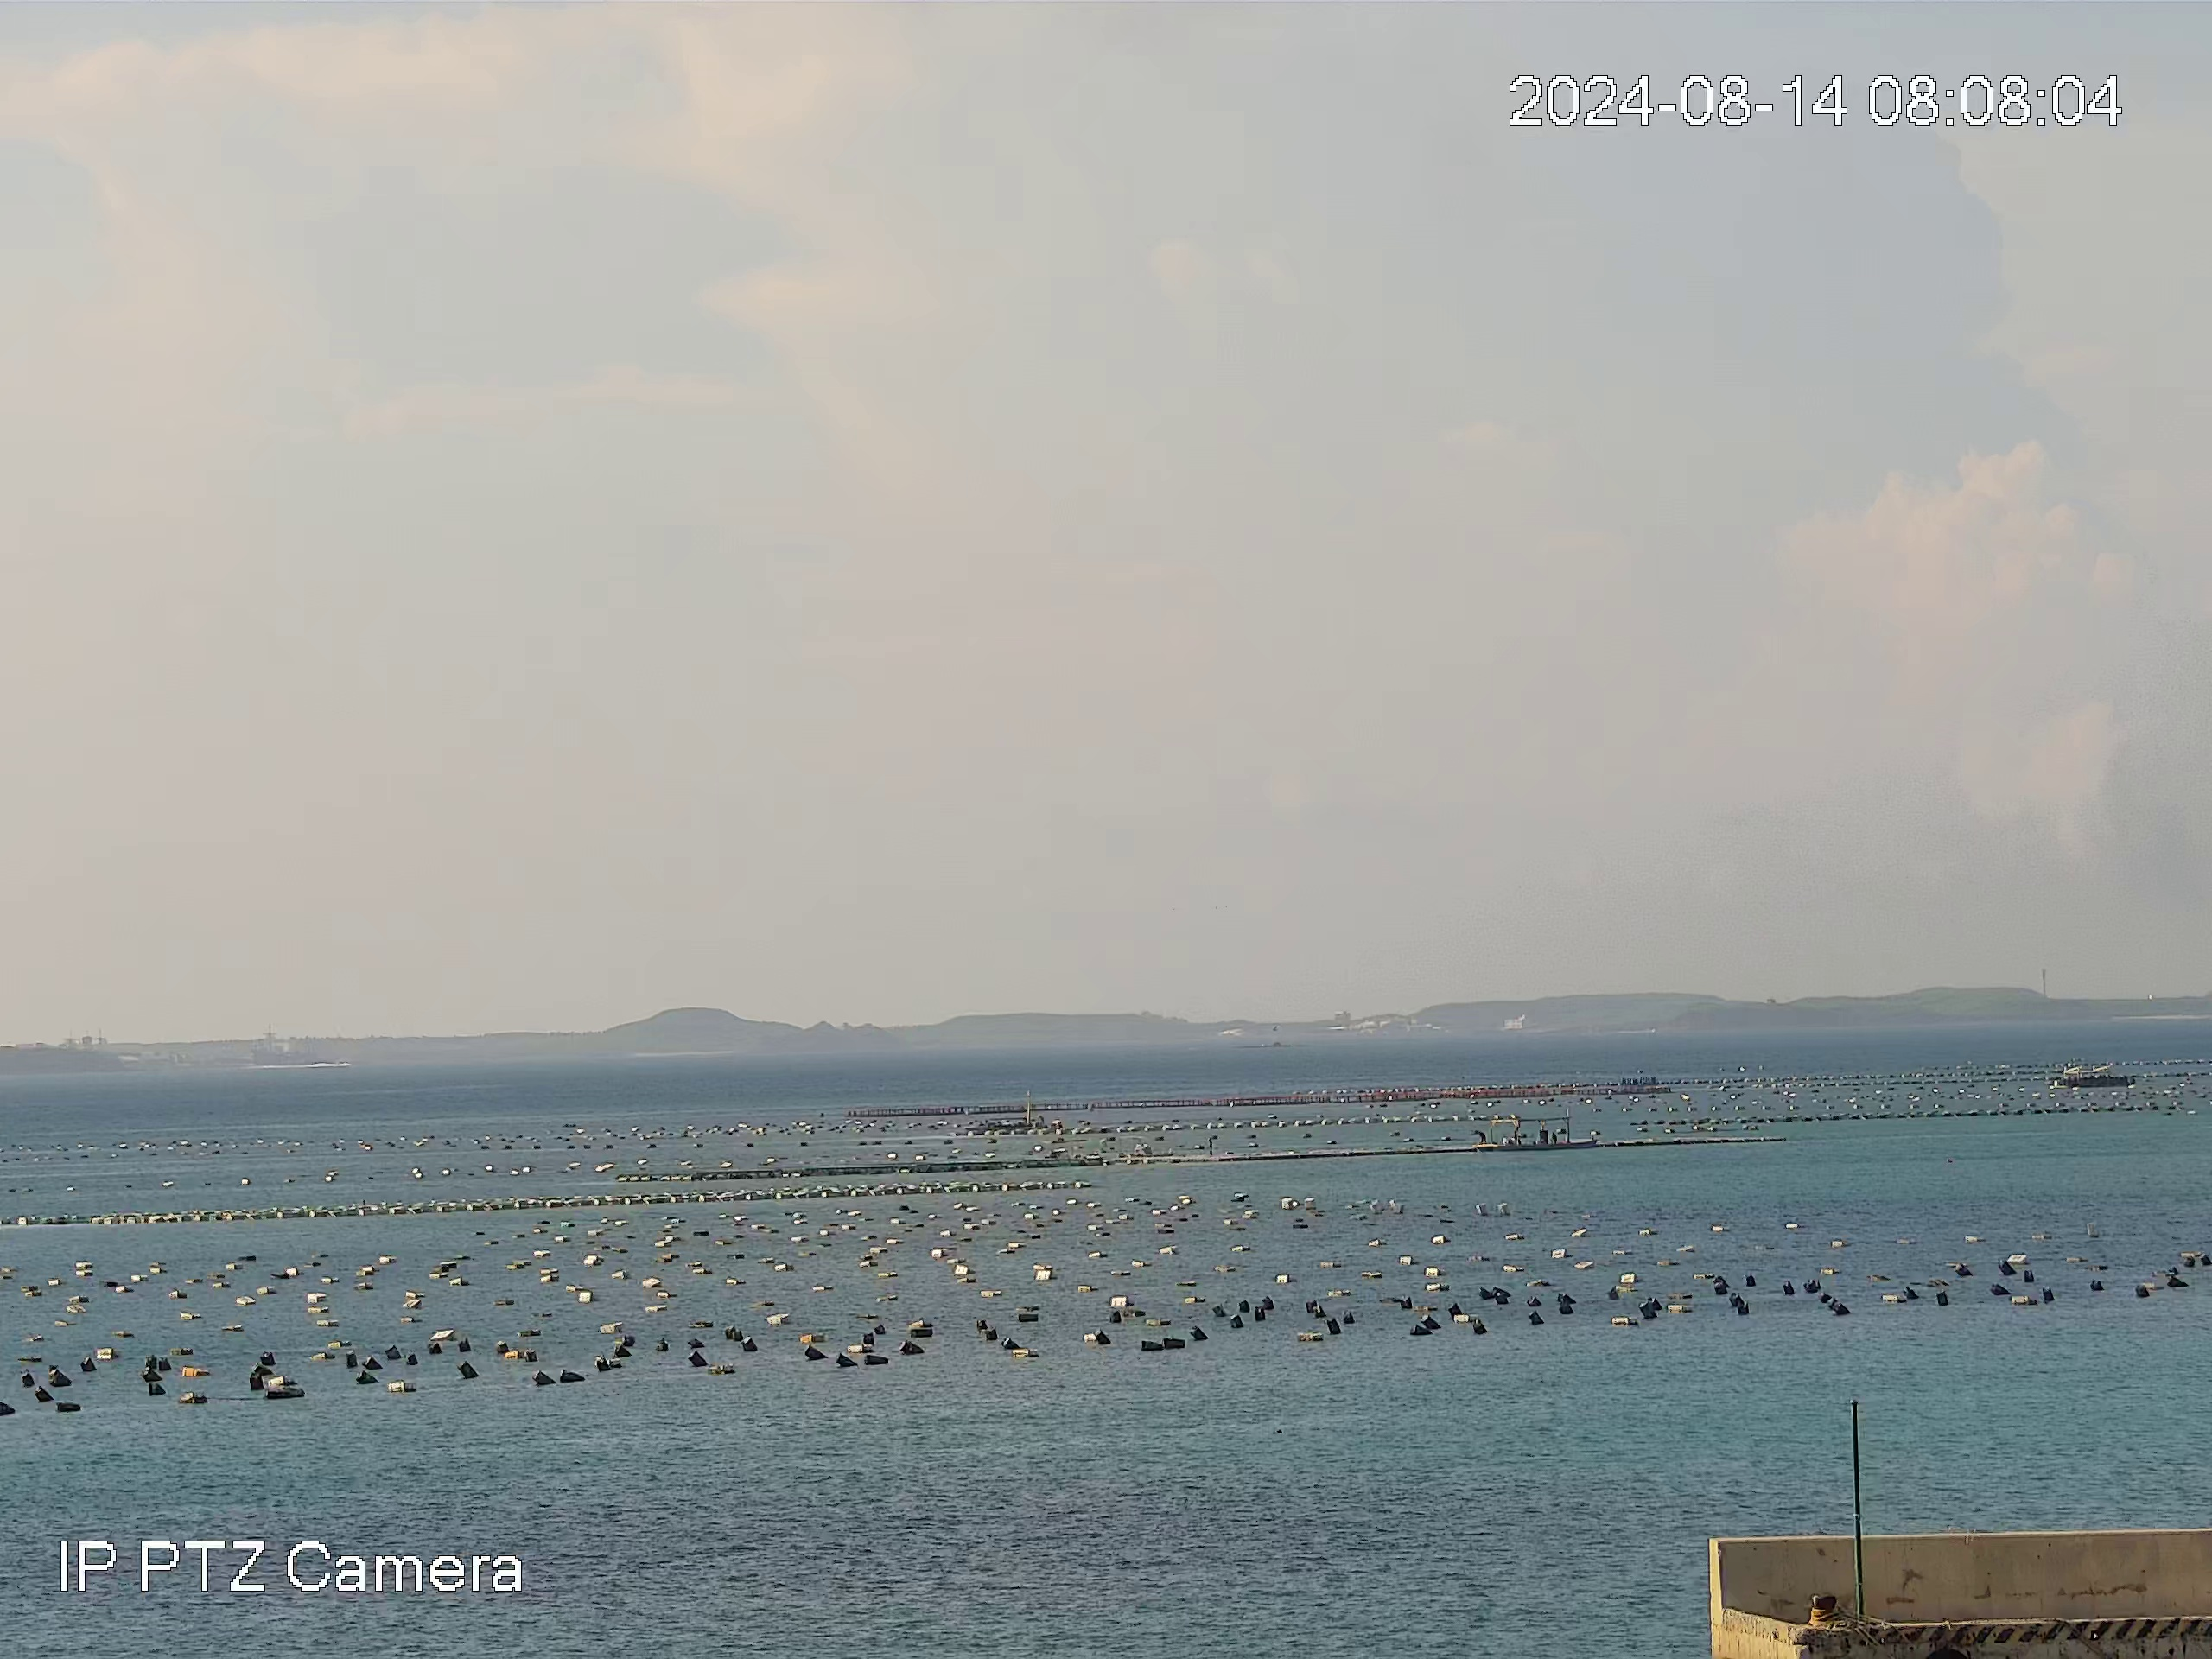boat: (1475, 1117, 1597, 1150), (2055, 1064, 2139, 1090)
